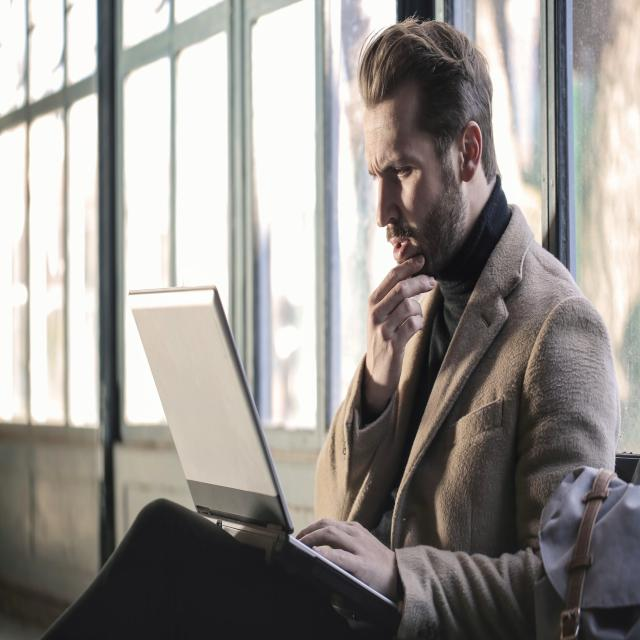adult: (85, 23, 614, 640)
